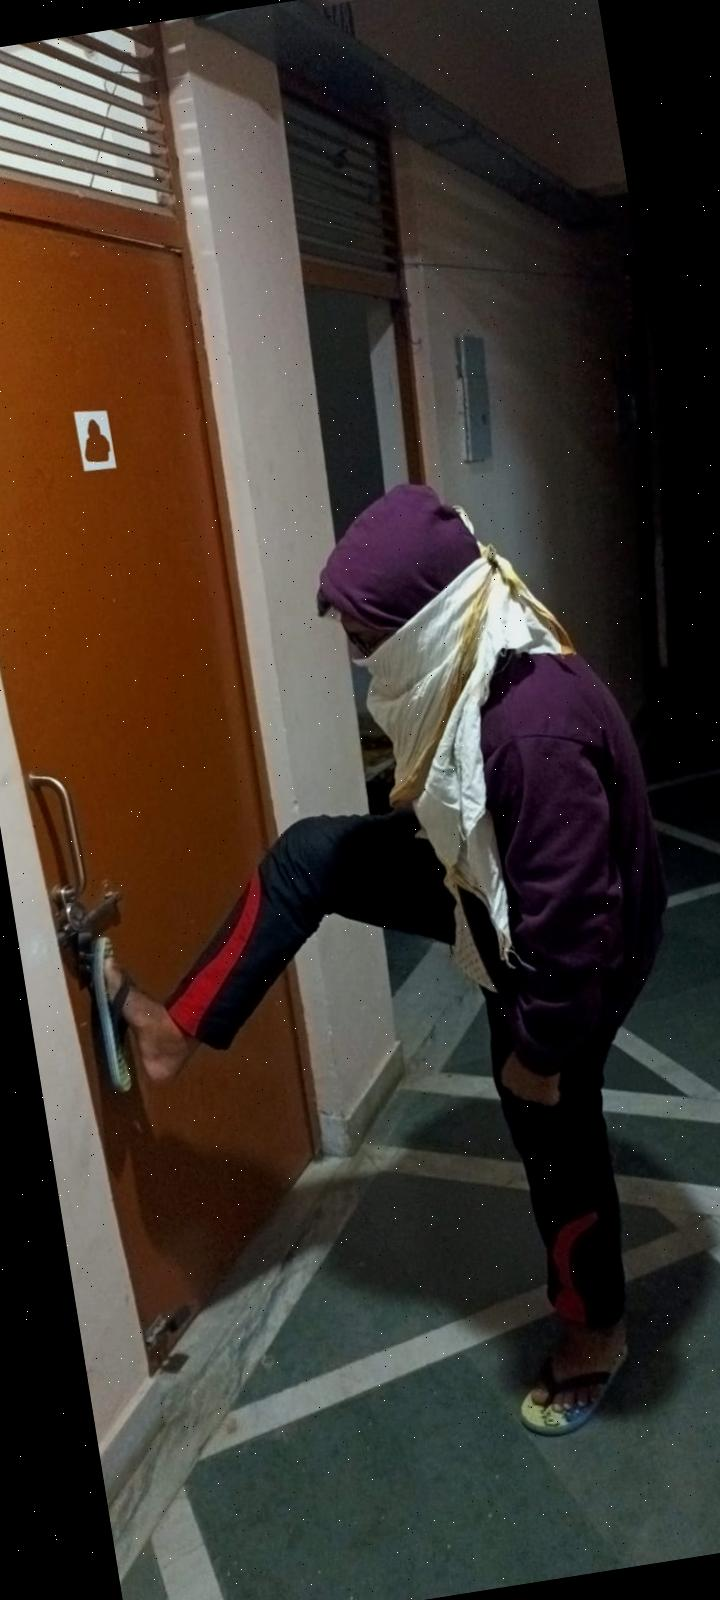suspicion: (0, 442, 720, 1527), (272, 454, 716, 1463)
